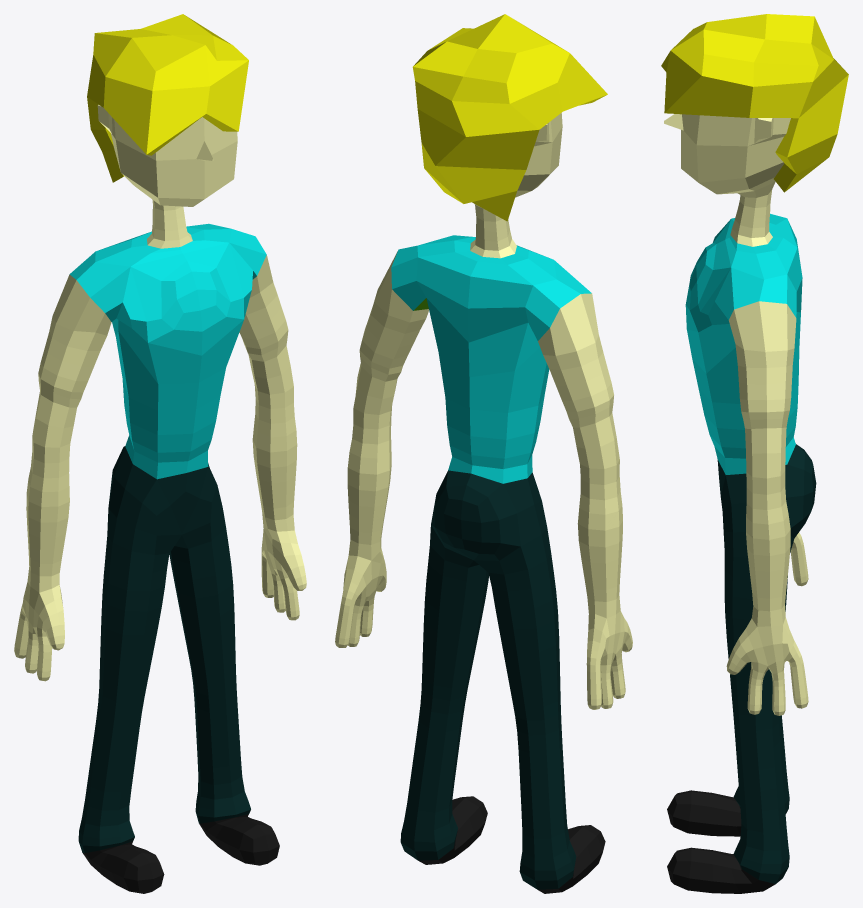
Rendered from npc4.fbx.
3 renders of one model, left to right at view 1: azimuth 30°, elevation 25°; view 2: azimuth 150°, elevation 25°; view 3: azimuth 270°, elevation 25°, orthographic.
Visible parts, largest first — view 1: npc4; view 2: npc4; view 3: npc4.
Boxes of the visible parts, <box> form: npc4: <box>14,14,306,893</box>; npc4: <box>335,14,632,893</box>; npc4: <box>661,14,848,893</box>.
Bounding box in the file's own units: 106 × 318 × 64.41.
